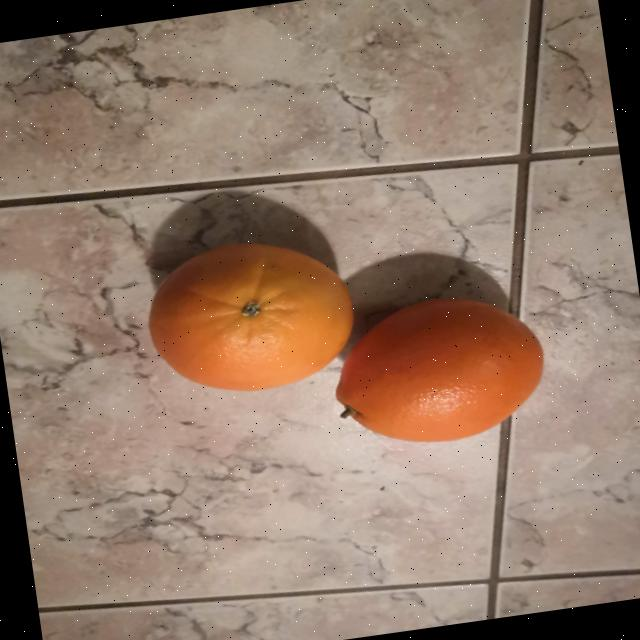orange: (148, 243, 352, 390), (335, 298, 543, 442)
